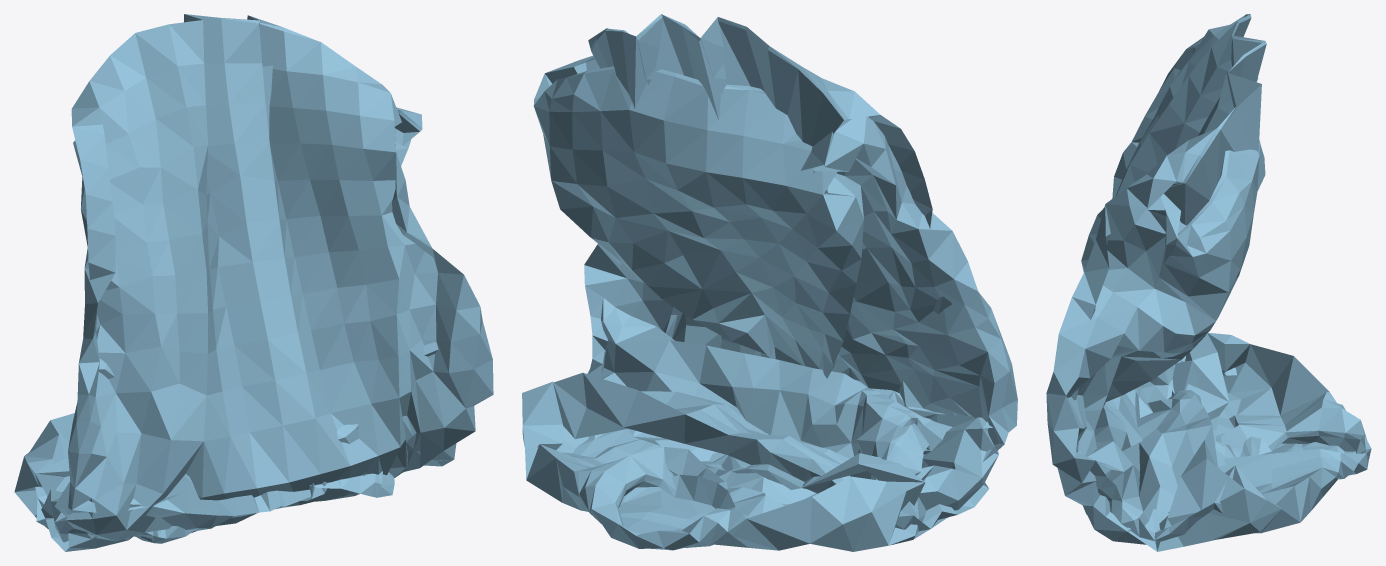
Rendered from frame_15.glb.
3 renders of one model, left to right at view 1: azimuth 30°, elevation 25°; view 2: azimuth 150°, elevation 25°; view 3: azimuth 270°, elevation 25°, orthographic. The views are drawn at different scales.
Parts seen in each view (by area): view 1: frame_15.obj; view 2: frame_15.obj; view 3: frame_15.obj.
Part boxes in pixels (x1=…): frame_15.obj: x1=14, y1=14, x2=493, y2=551; frame_15.obj: x1=522, y1=14, x2=1017, y2=551; frame_15.obj: x1=1046, y1=14, x2=1371, y2=551.
Size of the model in its own units: 1.05 by 1.12 by 0.746.
